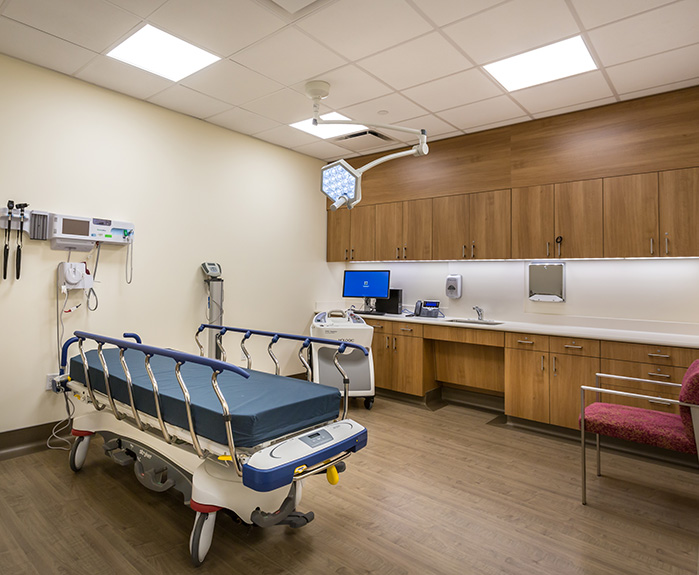bedrail: (69, 331, 248, 474), (197, 316, 373, 410)
cabinet: (604, 167, 699, 263), (511, 172, 603, 258), (430, 187, 511, 261), (370, 201, 431, 262), (314, 207, 374, 268)
chair: (576, 354, 699, 509)
computer: (343, 269, 391, 302)
counter: (343, 297, 697, 440)
countertop: (345, 302, 694, 346)
dispenser: (444, 273, 464, 299)
faucet: (472, 304, 485, 320)
handle: (396, 328, 418, 340), (649, 395, 671, 407), (649, 371, 671, 383), (649, 350, 671, 362), (391, 334, 400, 356), (382, 333, 391, 355), (550, 354, 559, 376), (563, 344, 582, 354), (511, 341, 536, 348), (540, 352, 546, 374), (352, 241, 358, 263), (344, 241, 350, 263), (402, 240, 408, 262), (462, 237, 468, 259), (470, 239, 476, 261), (545, 238, 551, 260), (558, 238, 564, 260), (664, 236, 670, 258), (649, 235, 655, 257)
hospital_bed: (60, 314, 371, 567)
keyboard: (345, 308, 385, 316)
mouse: (405, 313, 416, 318)
sink: (447, 317, 504, 328)
surgical_light: (315, 163, 366, 218)
telephone: (412, 297, 443, 320)
